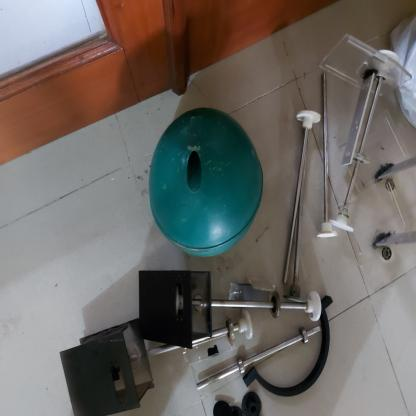green_buoy: (147, 105, 269, 262)
